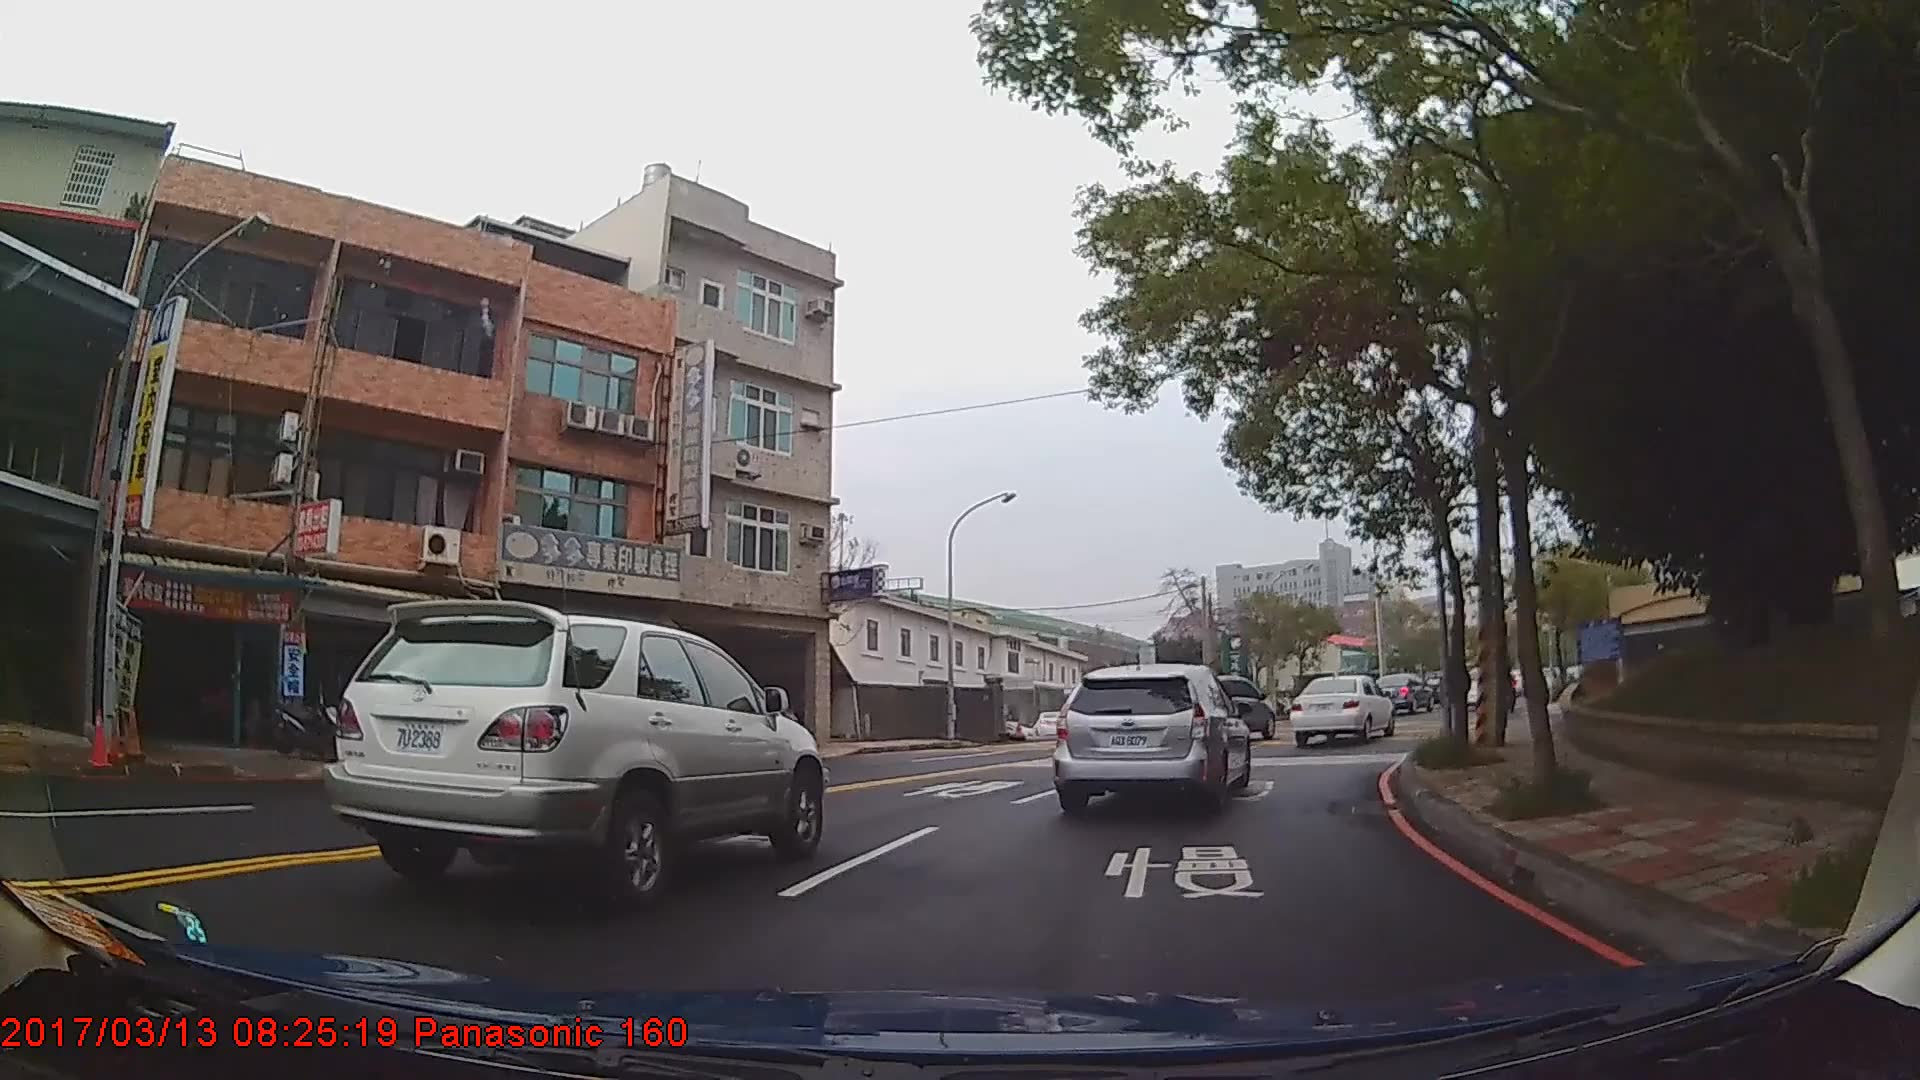vehicle: (320, 597, 825, 911), (1048, 658, 1249, 808), (1286, 671, 1395, 744), (1185, 670, 1274, 744), (1367, 667, 1433, 713)
